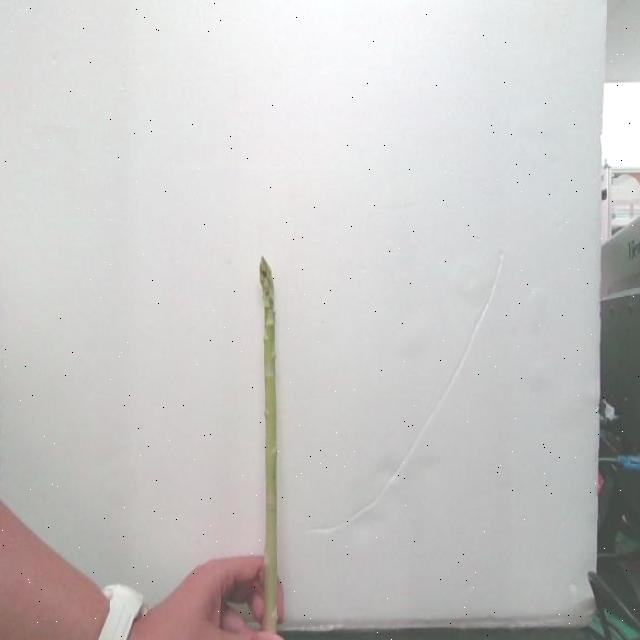aspargus: (259, 260, 284, 632)
